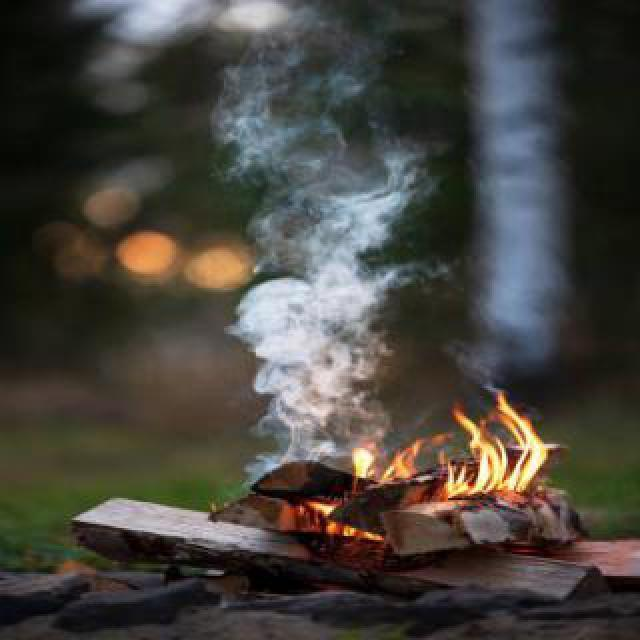Fire: (388, 388, 568, 512)
Smoke: (194, 6, 458, 470)
